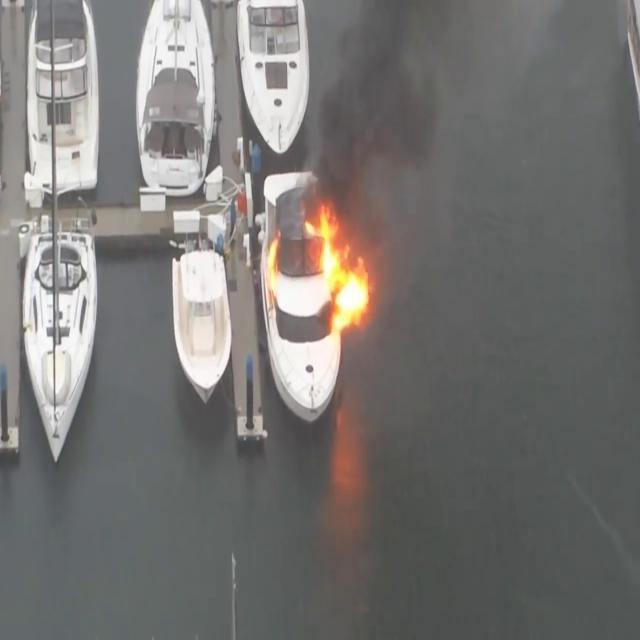Fire: (301, 197, 370, 336), (264, 228, 282, 311)
Smoke: (299, 0, 487, 218)
